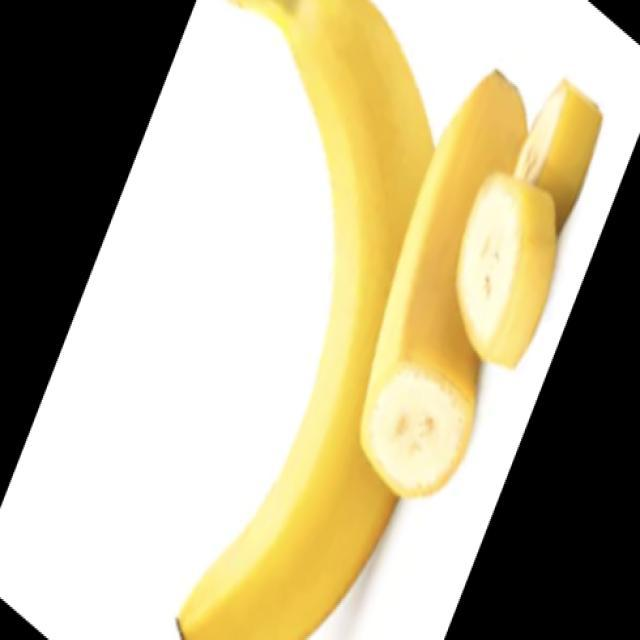Banana: (174, 0, 446, 636), (353, 56, 533, 499), (456, 168, 558, 369), (514, 76, 608, 220)
